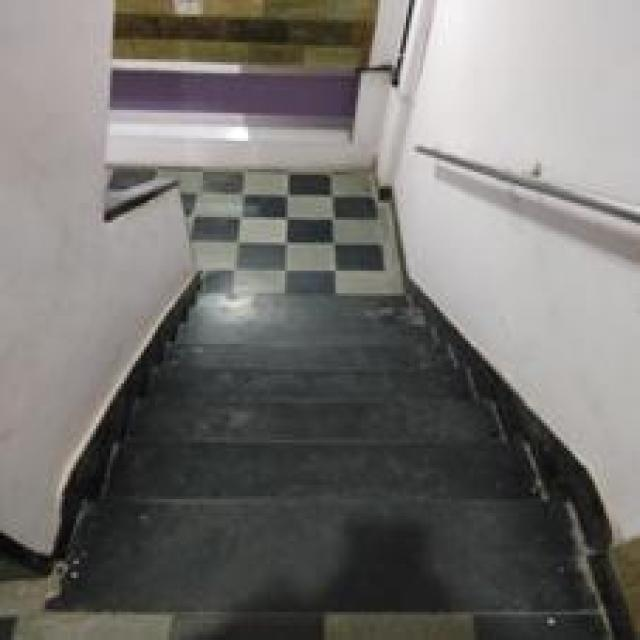downstair: (80, 410, 551, 573)
